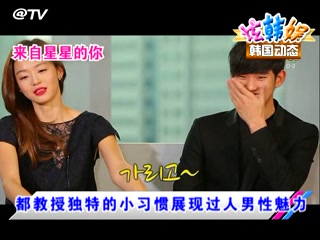face: (13, 56, 58, 102), (232, 64, 274, 109)
